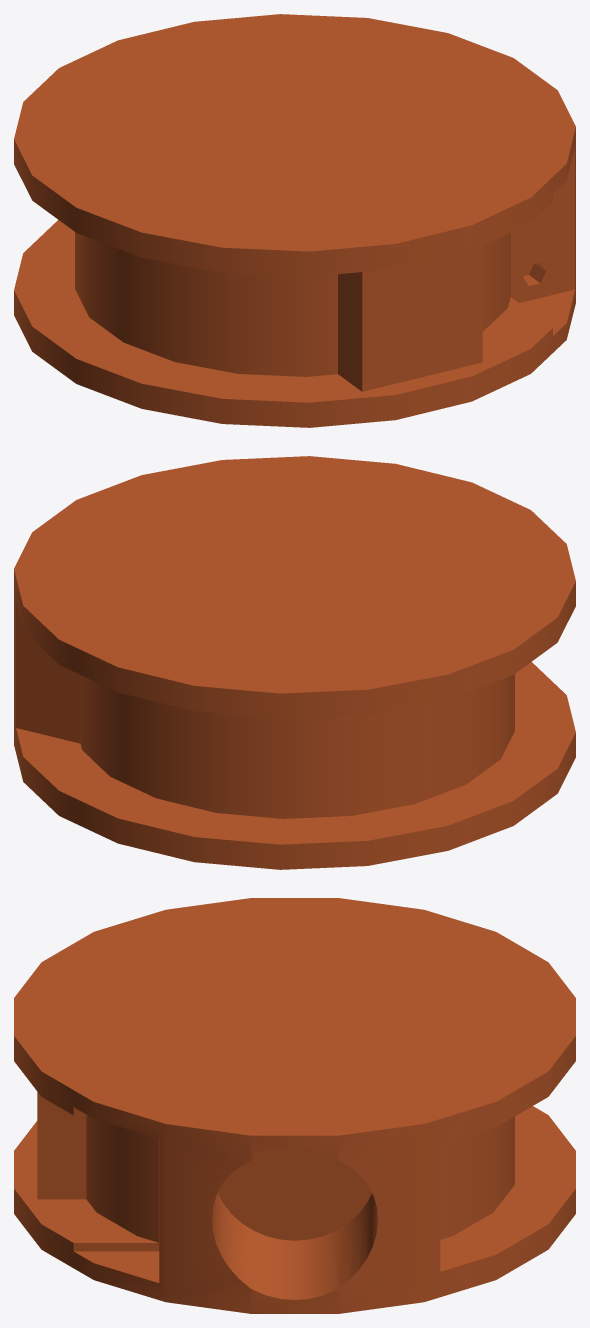
3 renders of one model, top to bottom at view 1: azimuth 30°, elevation 25°; view 2: azimuth 150°, elevation 25°; view 3: azimuth 270°, elevation 25°, orthographic.
Visible parts, largest first — view 1: Link_5; view 2: Link_5; view 3: Link_5.
Part boxes in pixels (<box>): Link_5: <box>14,14,575,427</box>; Link_5: <box>14,456,575,869</box>; Link_5: <box>14,898,575,1313</box>.
Bounding box in the file's own units: 0.12 × 0.042 × 0.12.
